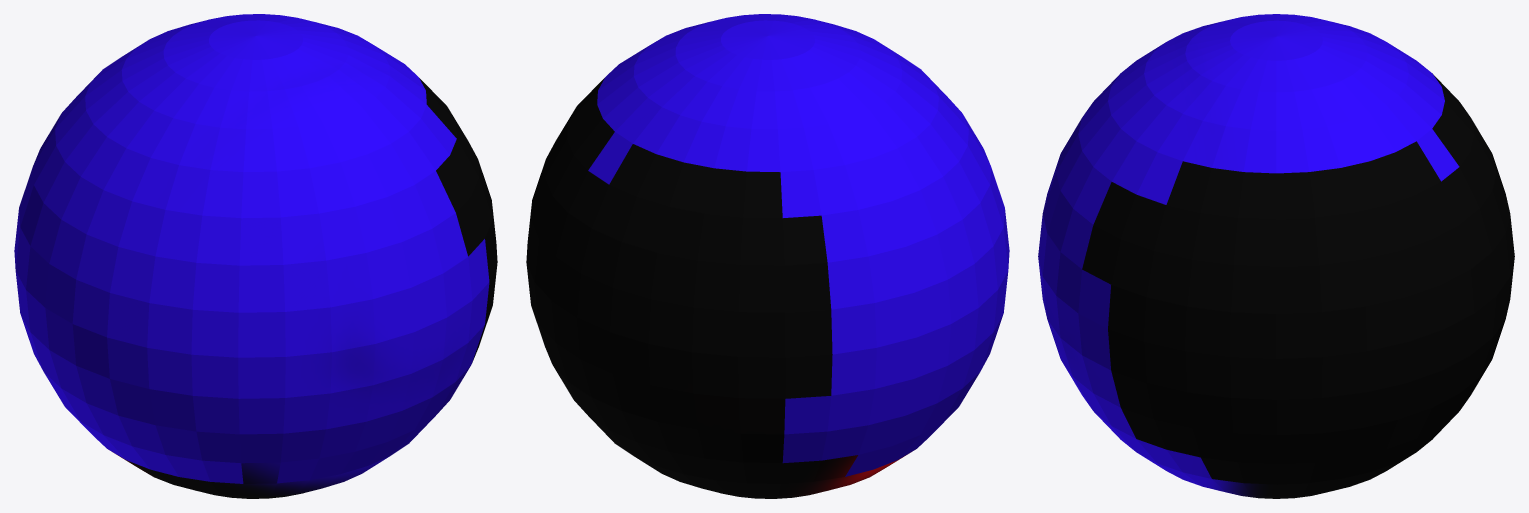
File: float_Head.obj
The picture shows the model from 3 angles, left to right: view 1: azimuth 30°, elevation 25°; view 2: azimuth 150°, elevation 25°; view 3: azimuth 270°, elevation 25°; orthographic projection.
Parts seen in each view (by area): view 1: Head; view 2: Head; view 3: Head.
Part boxes in pixels (<box>): Head: <box>14,14,497,498</box>; Head: <box>526,14,1009,498</box>; Head: <box>1038,14,1514,498</box>.
Bounding box in the file's own units: 1.07 × 1.07 × 1.05.
